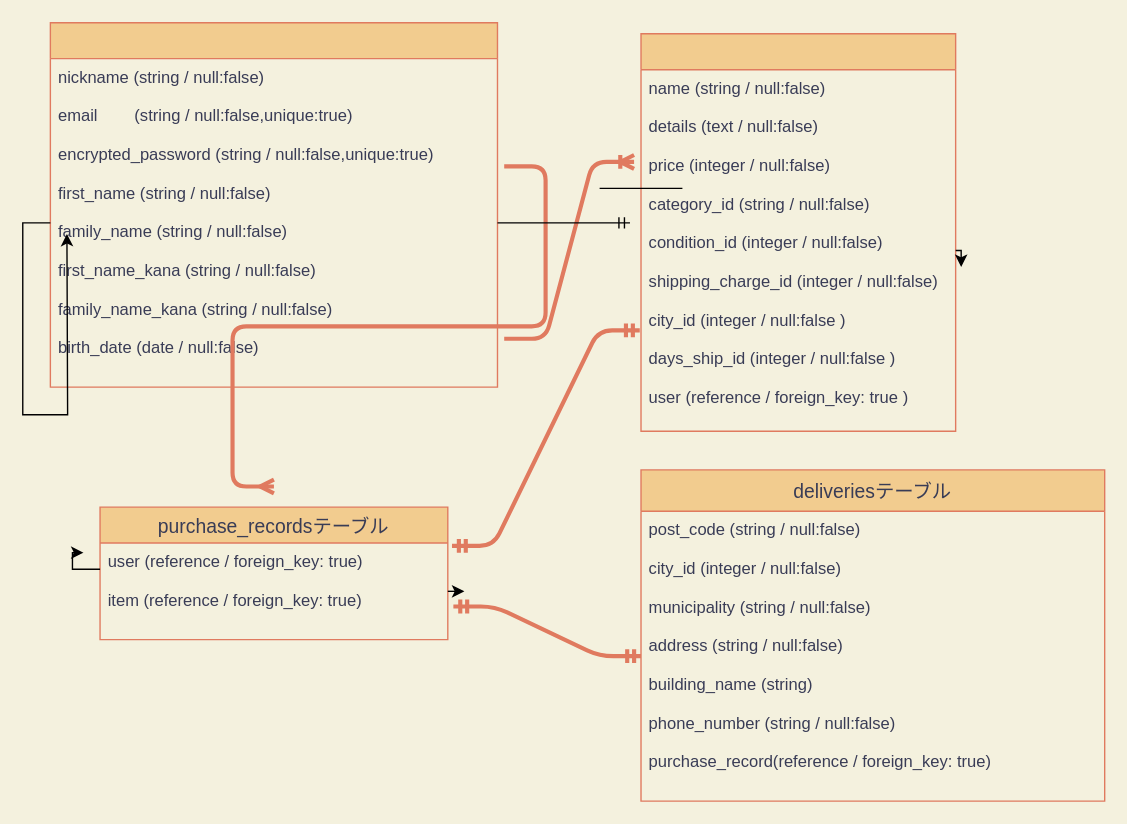
Some shapes in this 1127 by 824 pixel diagram are drawn without their labels. Each missing label, with the box of its shape:
itemsテーブル: (640, 32, 956, 431)
usersテーブル: (49, 21, 497, 387)
